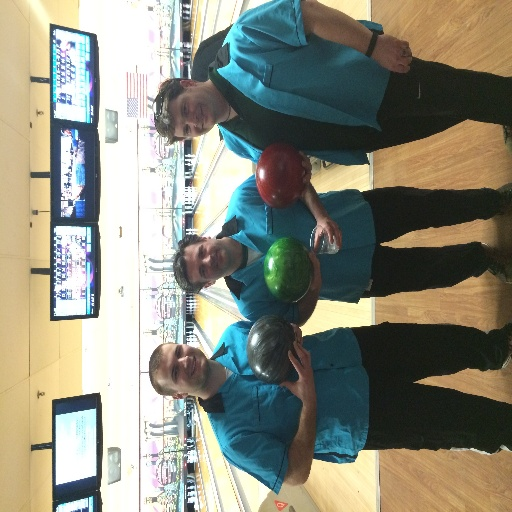hand: (278, 340, 316, 403), (372, 33, 412, 70), (312, 214, 342, 253), (308, 250, 322, 299), (289, 322, 303, 346)
